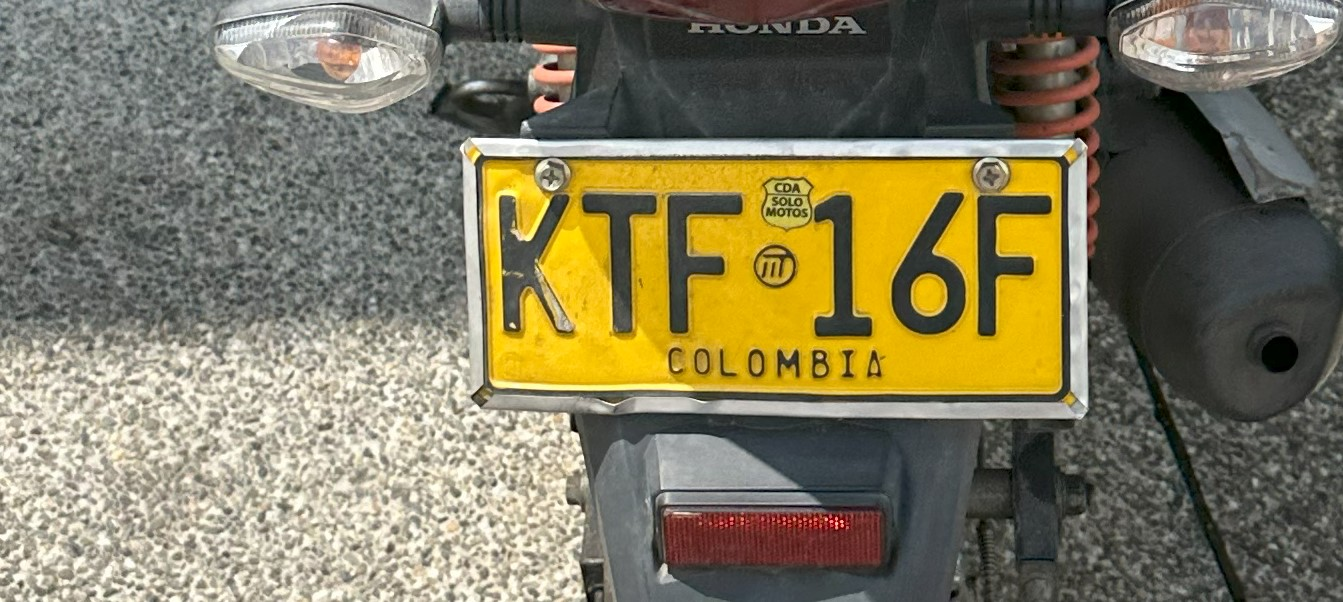number plate: (462, 138, 1087, 418)
